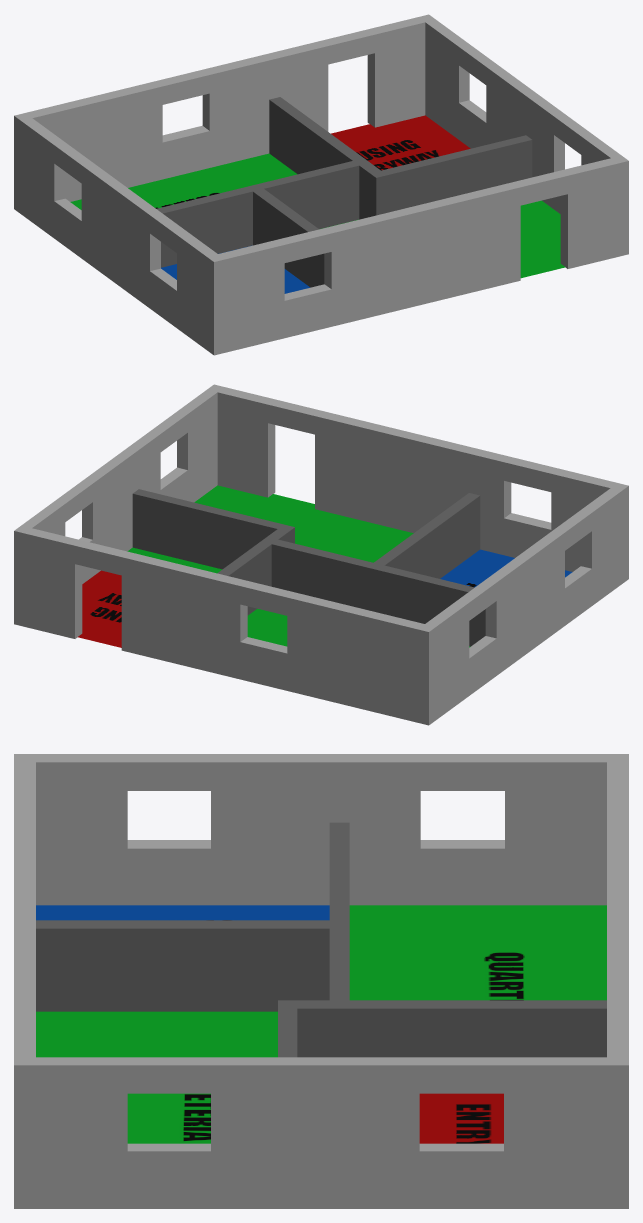
File: Building2.fbx
3 renders of one model, top to bottom at view 1: azimuth 30°, elevation 25°; view 2: azimuth 150°, elevation 25°; view 3: azimuth 270°, elevation 25°, orthographic. The views are drawn at different scales.
Visible parts, largest first — view 1: building2OutWalls, building2InWall1, building2Floor, building2InWall2, building2InWall; view 2: building2OutWalls, building2Floor, building2InWall2, building2InWall1, building2InWall; view 3: building2OutWalls, building2Floor, building2InWall, building2InWall1, building2InWall2.
Boxes of the visible parts, box(x1,y1,x2,y2) form: building2OutWalls: box(14, 14, 628, 355); building2InWall1: box(269, 97, 532, 219); building2Floor: box(70, 115, 565, 293); building2InWall2: box(156, 161, 359, 267); building2InWall: box(253, 187, 324, 287); building2OutWalls: box(14, 384, 628, 725); building2Floor: box(77, 485, 572, 647); building2InWall2: box(269, 539, 485, 646); building2InWall1: box(132, 489, 294, 615); building2InWall: box(374, 493, 480, 578); building2OutWalls: box(14, 754, 628, 1208); building2Floor: box(36, 905, 606, 1143); building2InWall: box(36, 920, 334, 1011); building2InWall1: box(278, 1000, 606, 1057); building2InWall2: box(329, 822, 349, 1000).
Bounding box in the file's own units: 17.56 × 3.78 × 14.66.
Materials: 3 (1 with a texture image).
